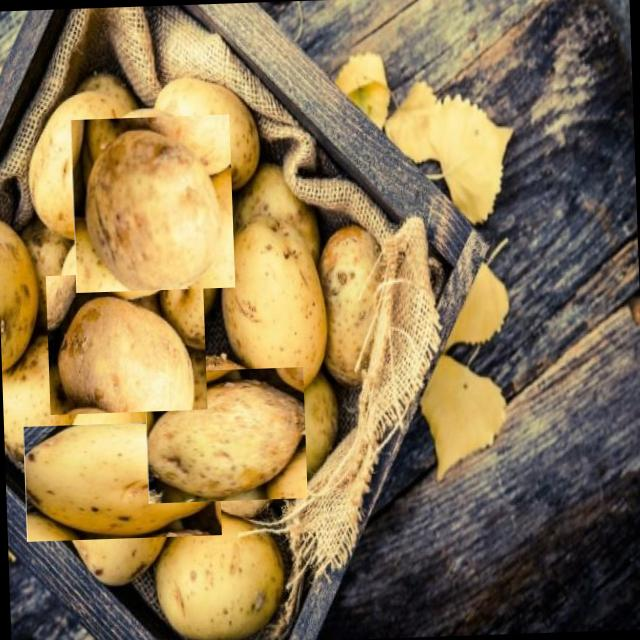potato: (70, 114, 235, 294), (41, 400, 202, 561), (44, 270, 207, 416), (150, 360, 302, 510)
